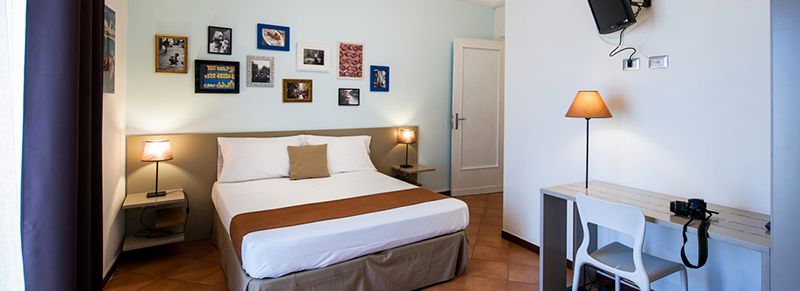chair: (573, 194, 688, 291)
